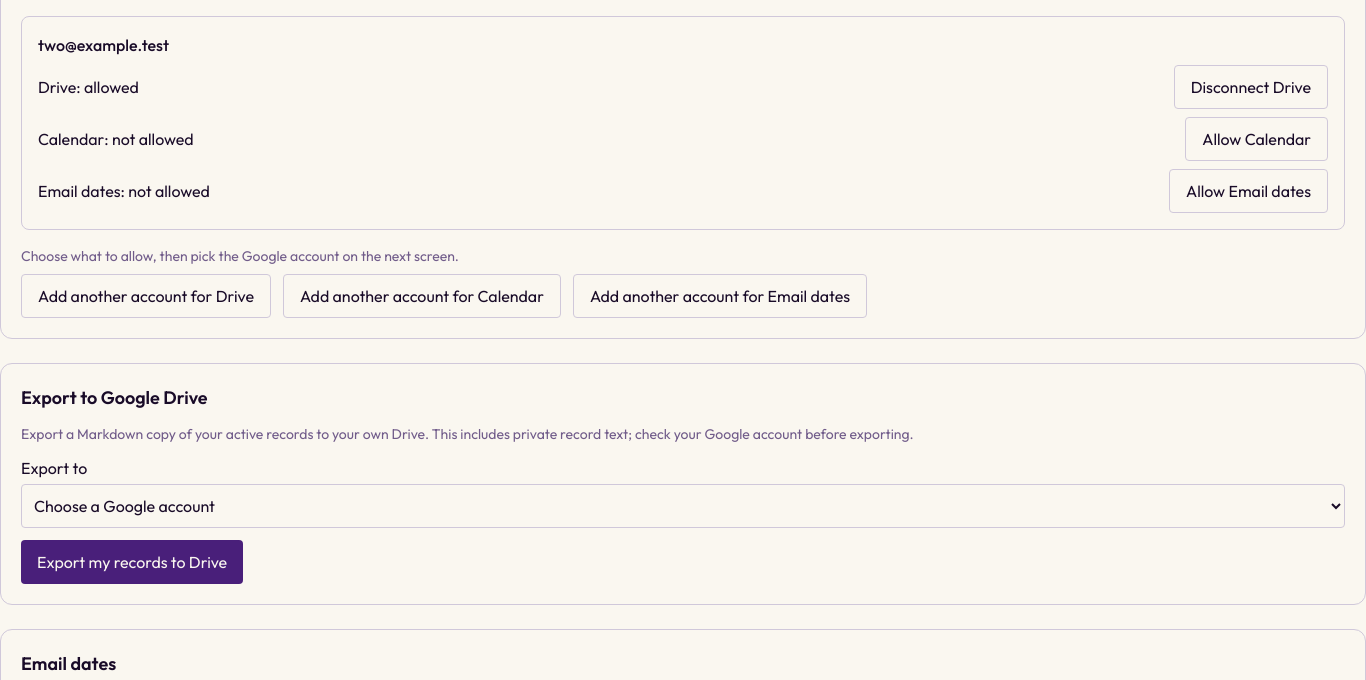
Test: Google connections page › refuses to follow an authorization link that does not point at Google
(page scrolled)
Step 1. Click the button "Add another account for Drive" → (146, 296), box [21,274,271,318]
(page scrolled)
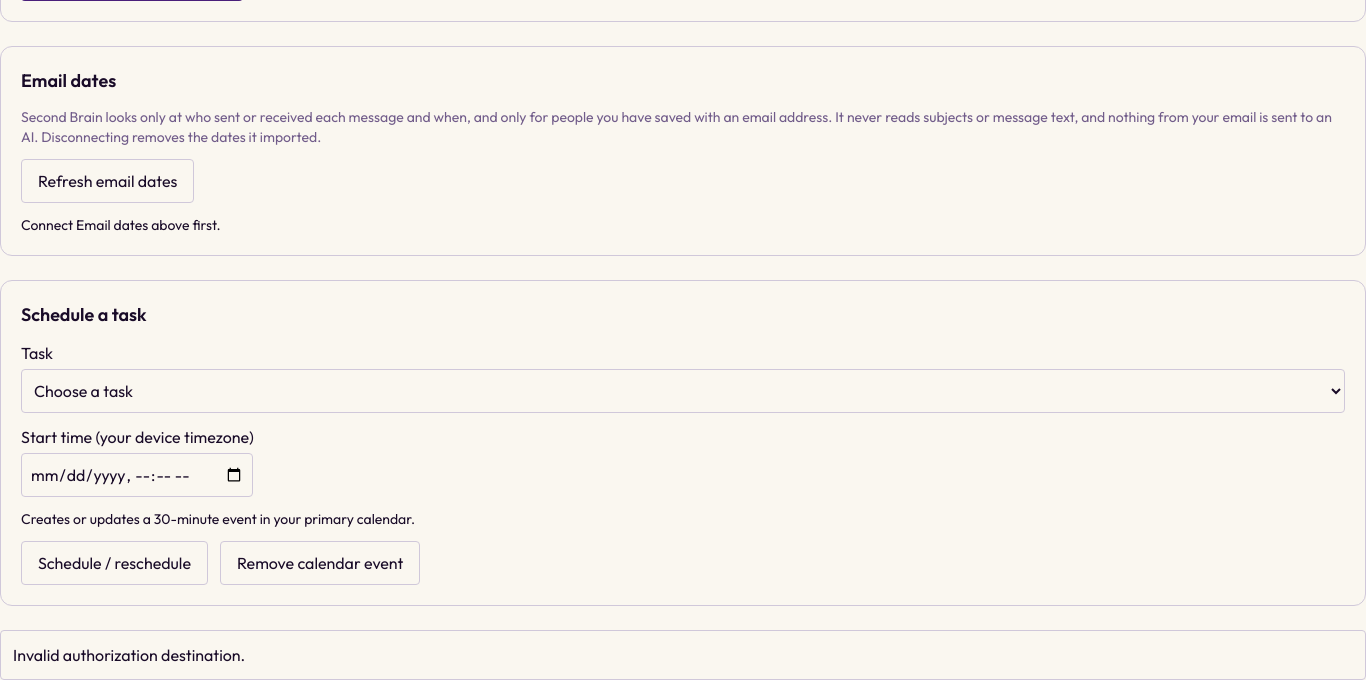
Check: the text "Invalid authorization destination." is shown, box [0,630,1365,679]
